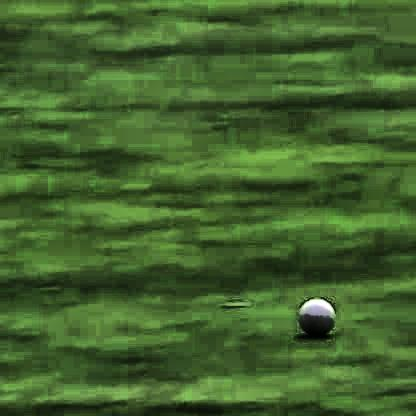golfball: (295, 294, 332, 333)
